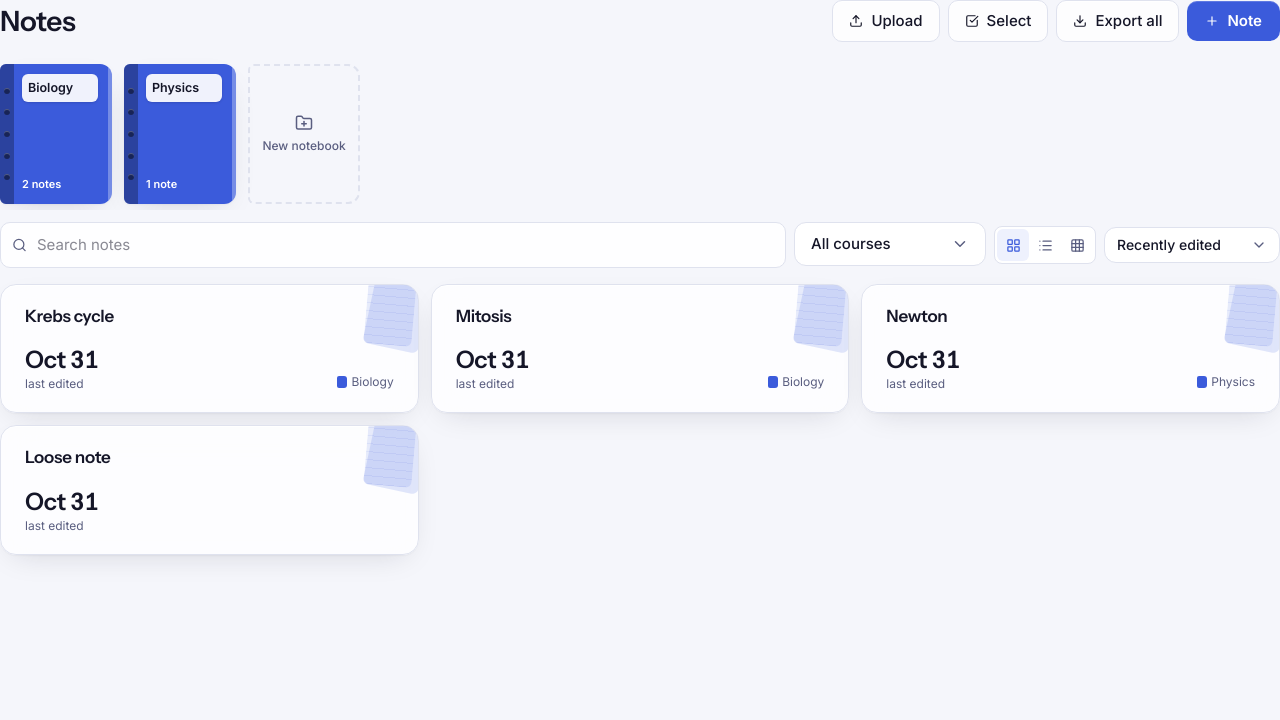
Scenario: the notebooks on the Notes page › makes a notebook, in the course the list is filtered to, and shows it
This screenshot has width=1280, height=720.
Expected: the text "Krebs cycle" is shown, [25,306,114,326]
Click the button with aria-label "Filter by course" at [890, 244], box [794,222,986,266]
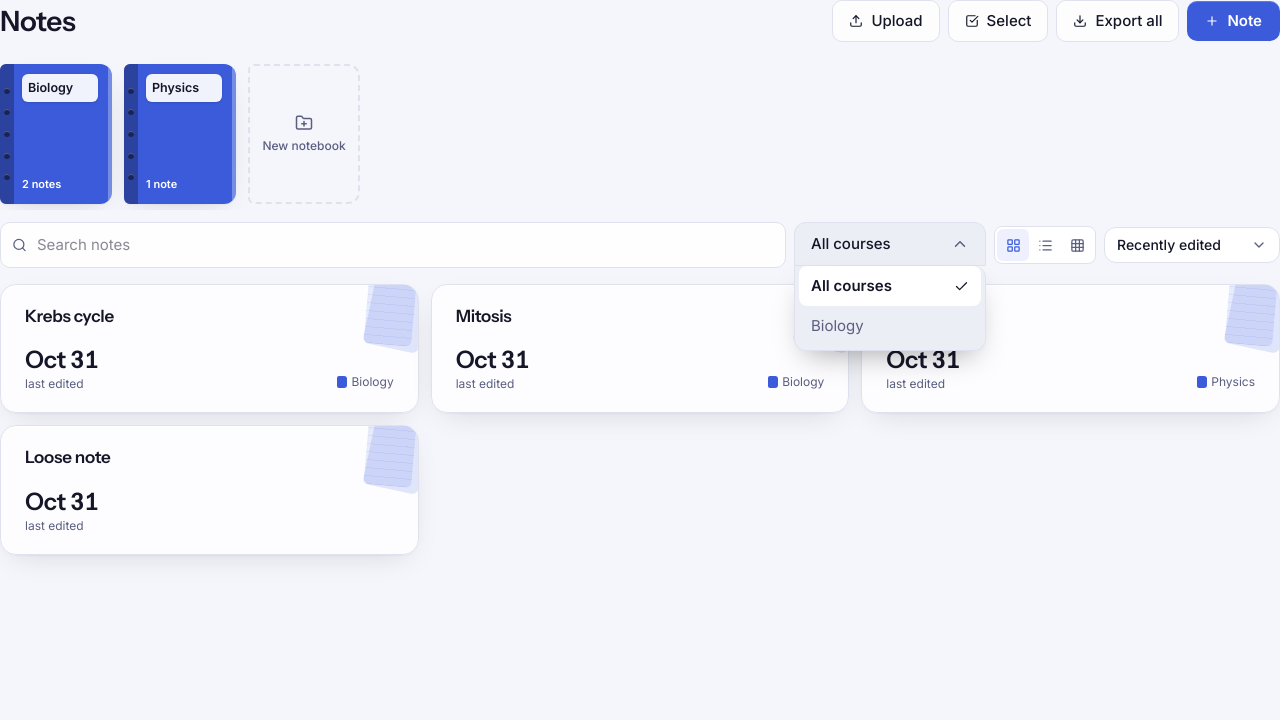
Click the option "Biology" at [837, 326], box [811,316,864,335]
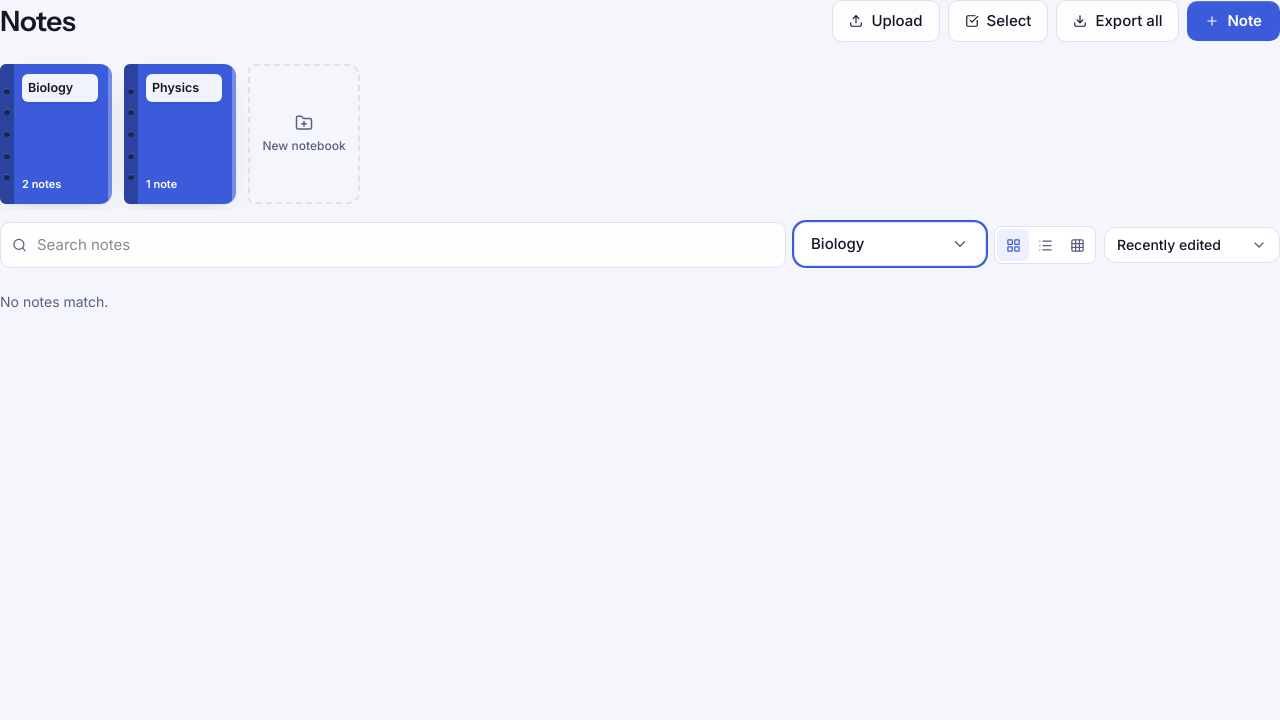
Click the button "New notebook" at [304, 134], box [248,64,360,204]
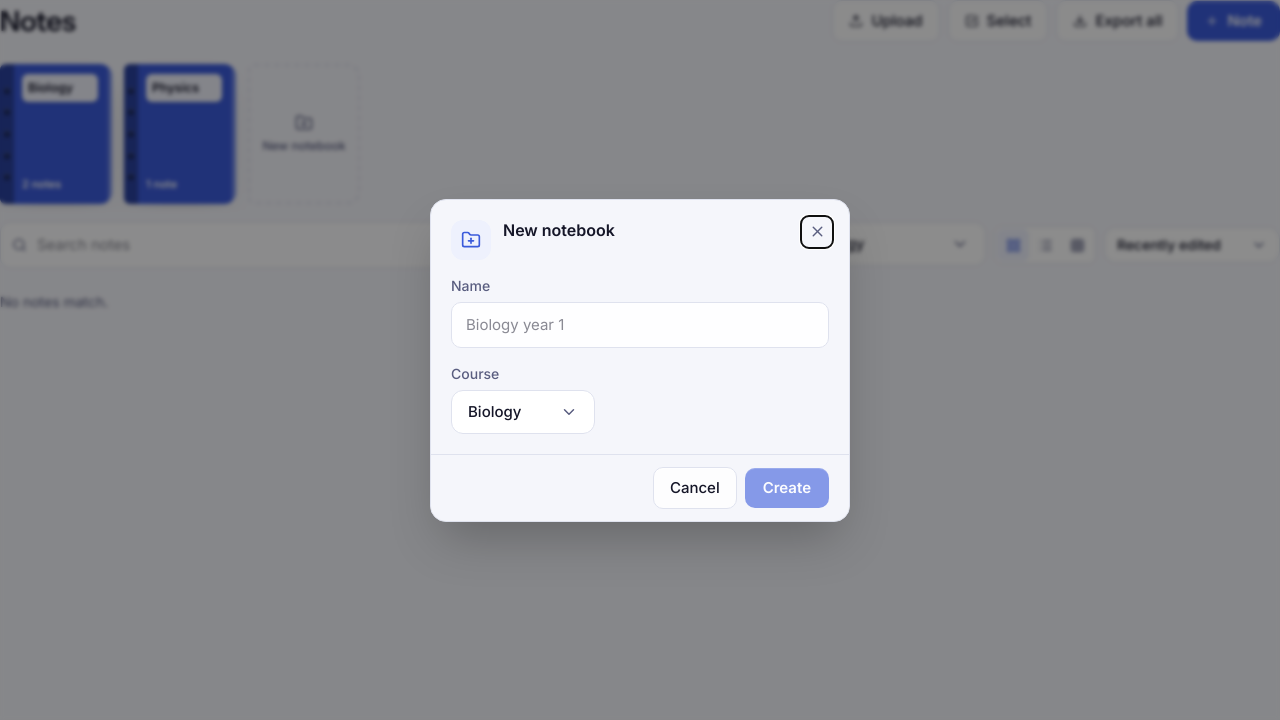
Expected: the text "Biology" next to "Physics" is shown, [28,80,73,95]
Type "Chemistry" into the field labelled "Name" at [640, 324], box [451,302,829,348]
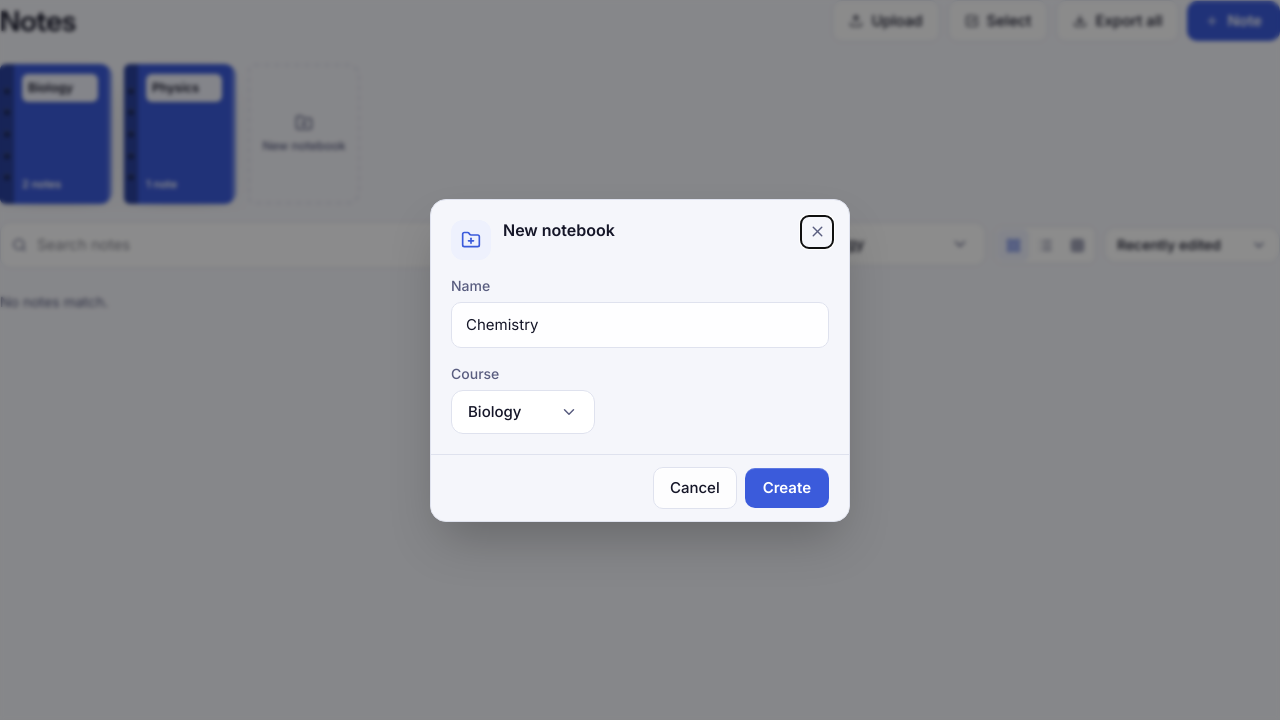
Click the button "Create" at [787, 488], box [745,468,829,508]
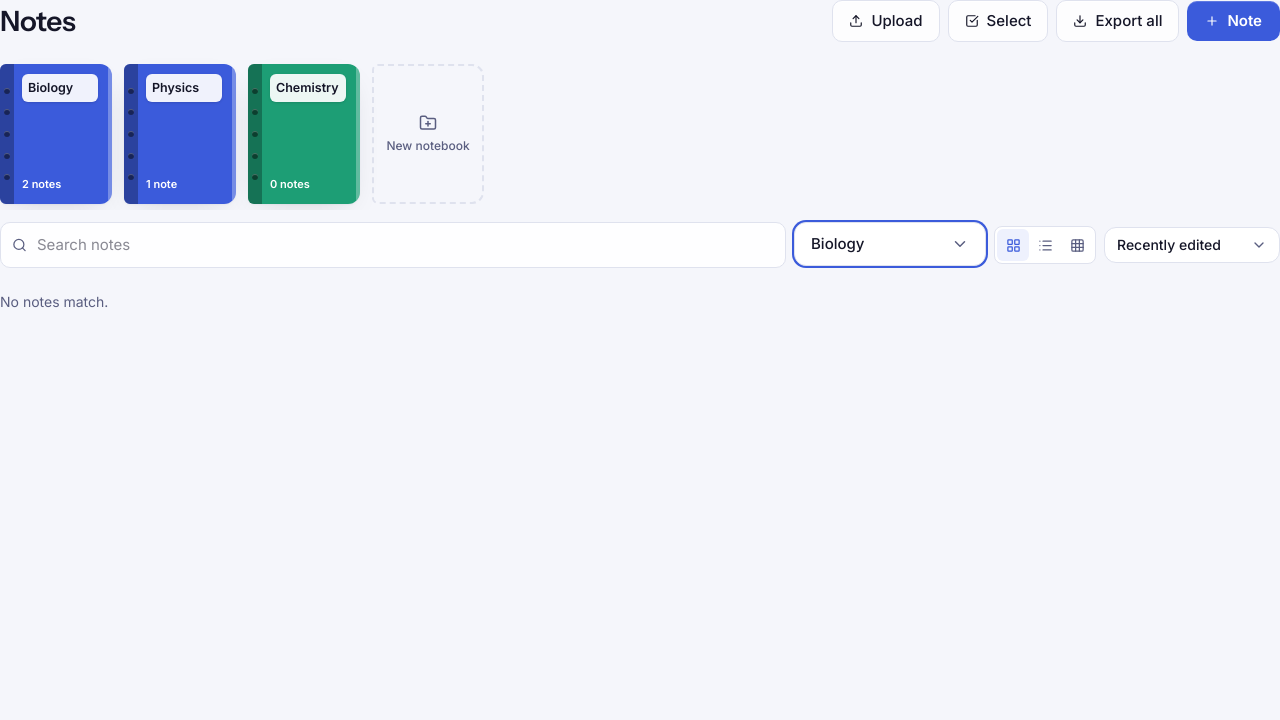
Result: the link with aria-label "Open Chemistry, 0 notes" is shown at [248,64,360,204]
